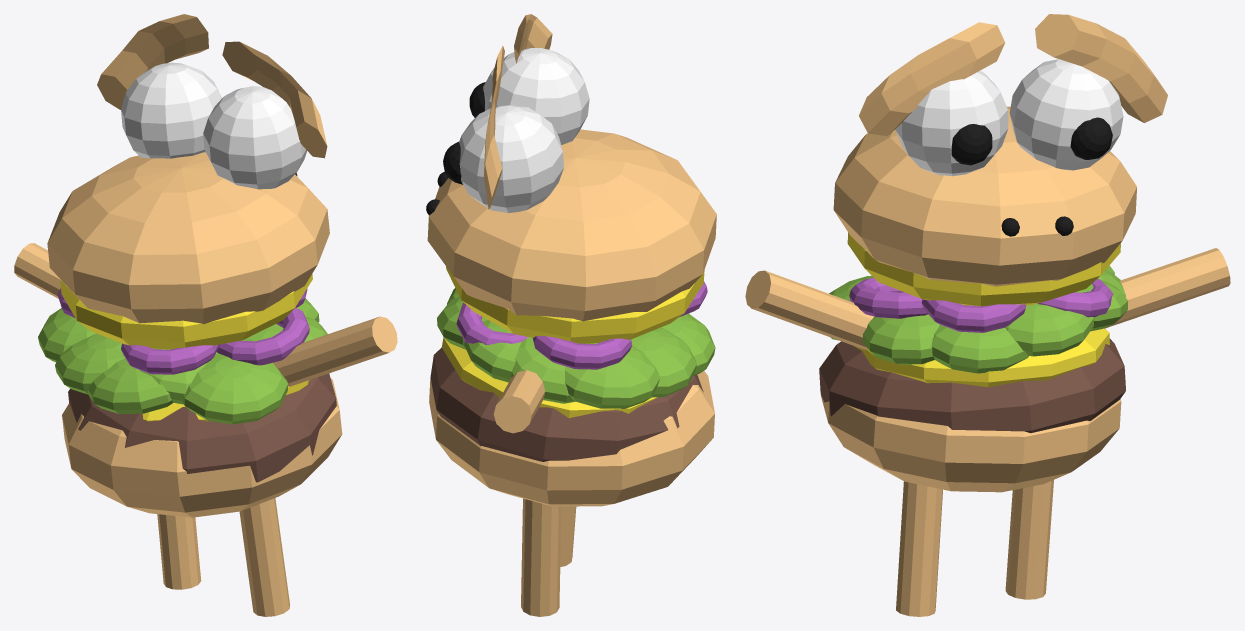
File: nightmares.fbx
The picture shows the model from 3 angles, left to right: view 1: azimuth 30°, elevation 25°; view 2: azimuth 150°, elevation 25°; view 3: azimuth 270°, elevation 25°; orthographic projection. The views are drawn at different scales.
Parts seen in each view (by area): view 1: group_762457679; view 2: group_762457679; view 3: group_762457679.
Boxes of the visible parts, left/top/right/bottom form: group_762457679: left=14, top=14, right=397, bottom=616; group_762457679: left=426, top=14, right=716, bottom=616; group_762457679: left=745, top=14, right=1230, bottom=616.
Bounding box in the file's own units: 45.99 × 96.91 × 71.83.
